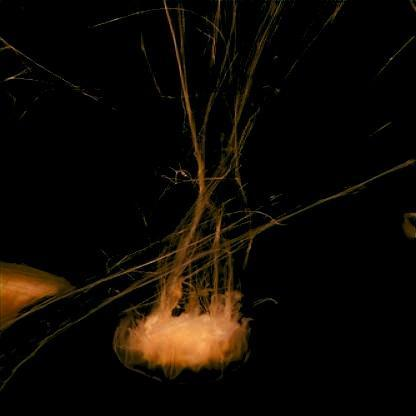GoldThorn: (110, 193, 264, 386), (0, 260, 70, 334)
